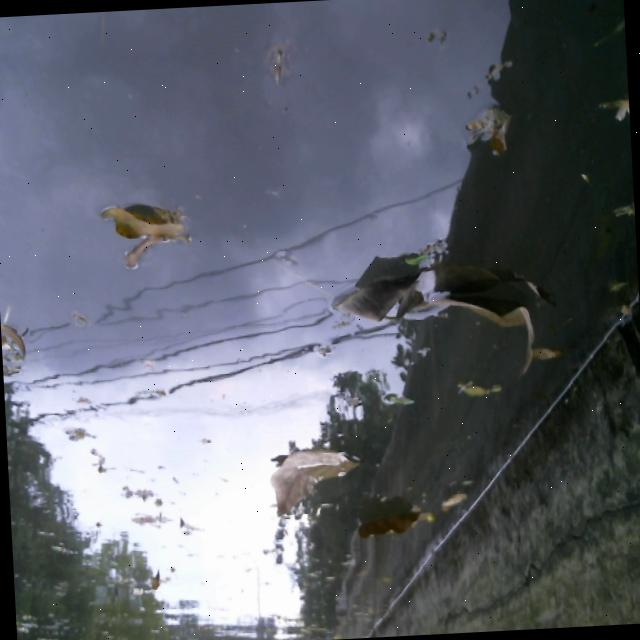Big-leaf: (423, 269, 545, 369), (266, 435, 360, 521), (325, 256, 432, 330), (96, 197, 198, 242), (354, 504, 430, 551)
Small-leaf: (461, 105, 517, 162), (115, 231, 176, 280), (0, 291, 35, 375), (437, 474, 488, 515), (261, 31, 291, 97), (452, 377, 503, 410), (599, 84, 631, 136), (601, 267, 626, 308), (142, 564, 172, 596), (76, 418, 94, 432)
